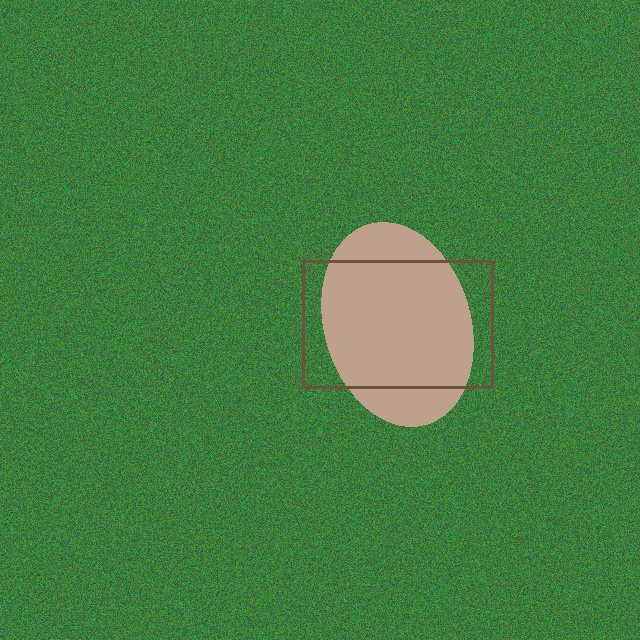corn borer: (293, 251, 502, 397)
